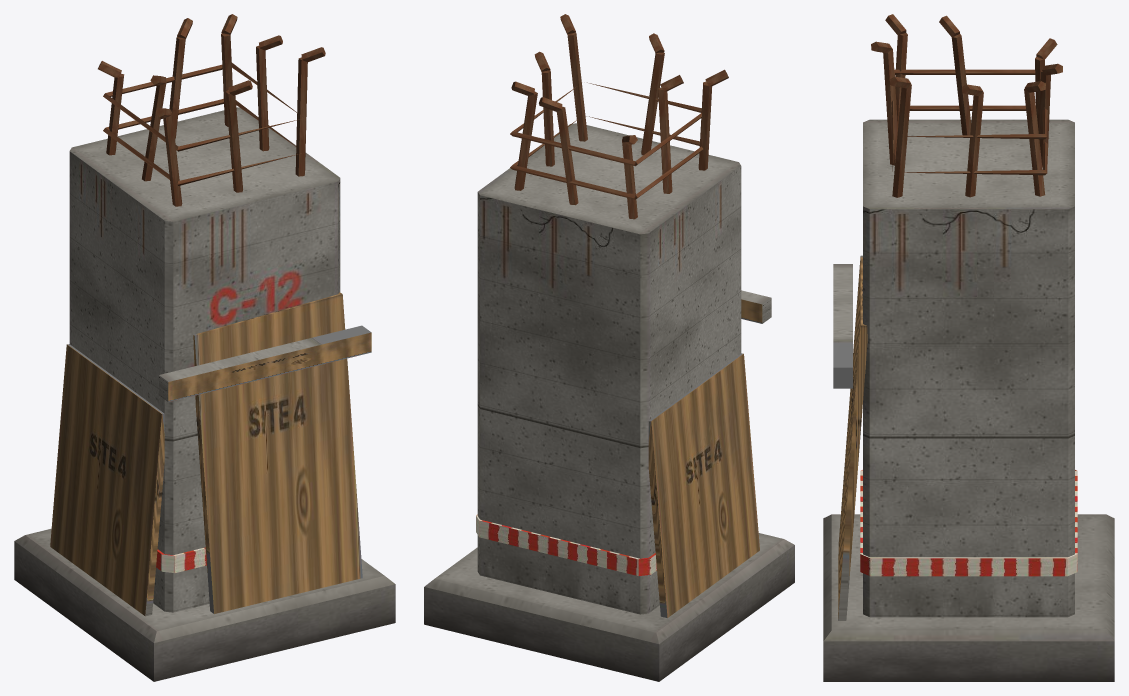
File: prop_pillar_column.glb
The picture shows the model from 3 angles, left to right: view 1: azimuth 30°, elevation 25°; view 2: azimuth 150°, elevation 25°; view 3: azimuth 270°, elevation 25°; orthographic projection. The views are drawn at different scales.
Visible parts, largest first — view 1: prop_pillar_column_body; view 2: prop_pillar_column_body; view 3: prop_pillar_column_body.
Boxes of the visible parts, x1,y1,x2,y2 form: prop_pillar_column_body: (14, 14, 395, 681); prop_pillar_column_body: (424, 14, 794, 681); prop_pillar_column_body: (823, 14, 1114, 681).
Size of the model in its own units: 0.88 by 1.95 by 0.88.
1 material, 1 textured.
